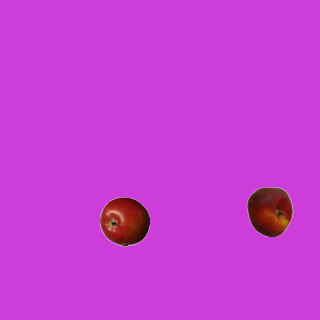Apple Braeburn: (99, 196, 149, 246)
Nectarine Flat: (244, 186, 294, 236)
